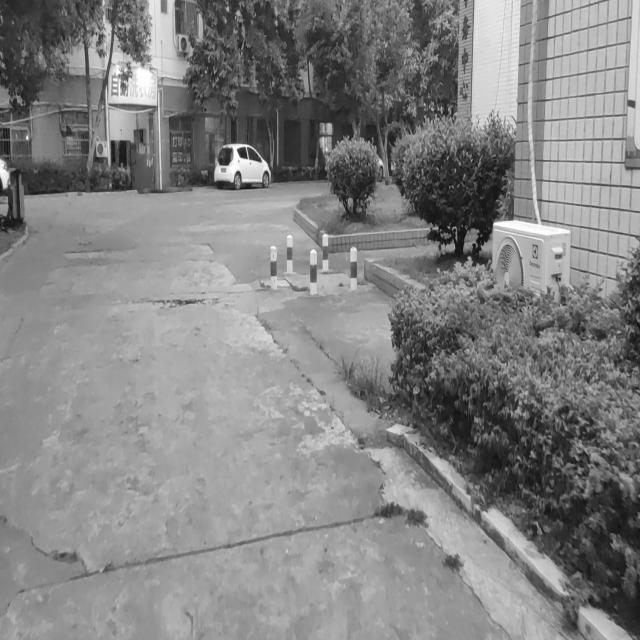ash bin: (7, 166, 25, 226)
car: (212, 139, 271, 189)
warning_column: (349, 244, 359, 292), (307, 251, 316, 295), (284, 234, 294, 272), (270, 244, 276, 292), (322, 230, 329, 271)
